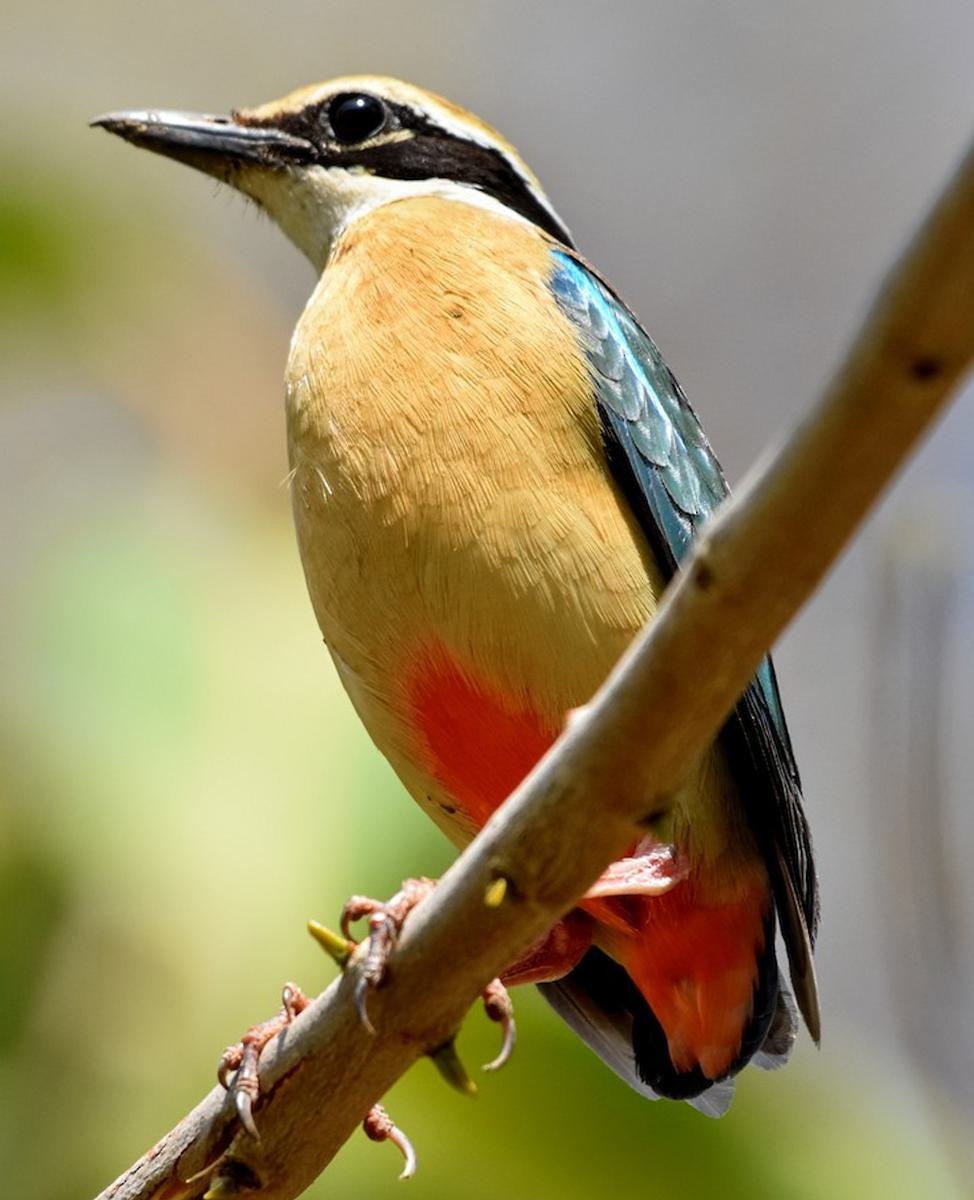pitta: (99, 53, 935, 1124)
